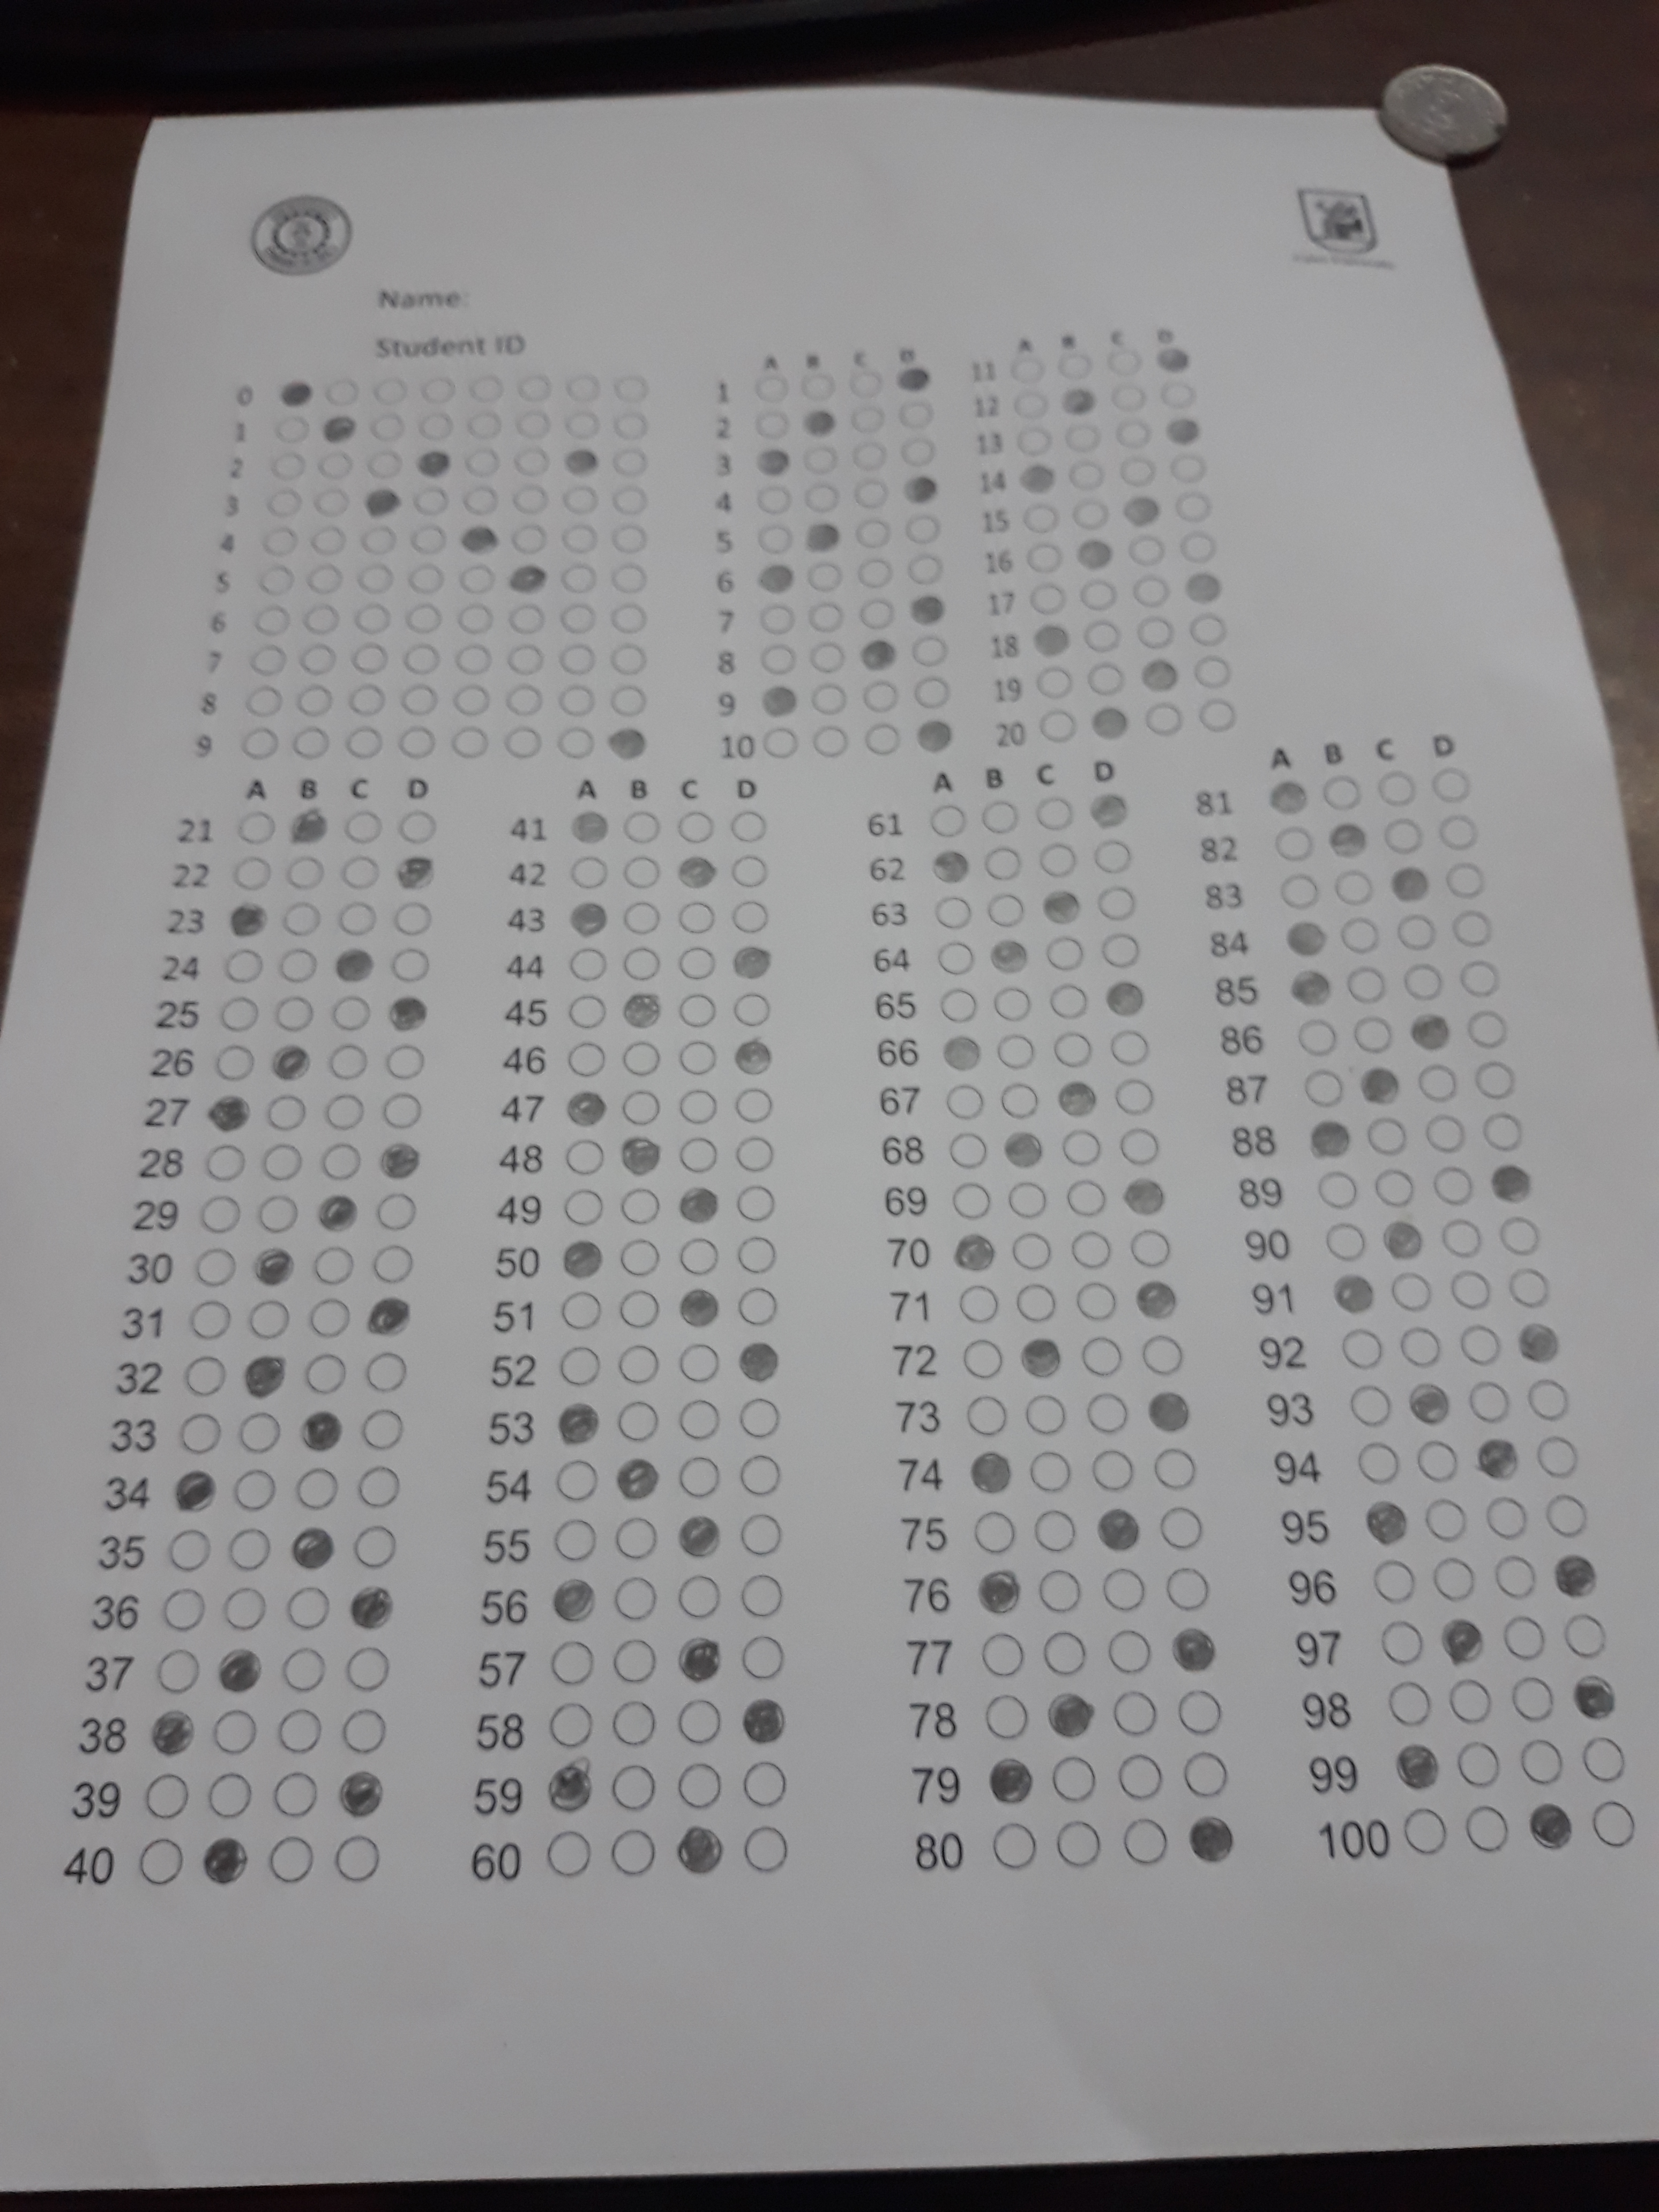not-c: (1054, 1818, 1103, 1869), (674, 1759, 723, 1810), (741, 1761, 789, 1811), (742, 1824, 791, 1874), (1047, 1754, 1096, 1804), (992, 1820, 1040, 1871), (1183, 1750, 1232, 1801), (1112, 1688, 1161, 1738), (985, 1691, 1033, 1742), (544, 1831, 592, 1881), (612, 1573, 660, 1623), (552, 1515, 601, 1566), (549, 1635, 598, 1686), (1462, 1804, 1511, 1855), (1457, 1740, 1506, 1791), (1518, 1737, 1567, 1787), (1589, 1799, 1638, 1850), (1579, 1735, 1628, 1785), (1511, 1674, 1560, 1724), (610, 1827, 659, 1878), (612, 1763, 660, 1813), (211, 1707, 260, 1757), (333, 1834, 382, 1885), (206, 1770, 254, 1820), (143, 1770, 192, 1820), (153, 1646, 202, 1696), (160, 1585, 209, 1635), (1560, 1609, 1608, 1658), (1122, 1817, 1171, 1865), (1175, 1688, 1223, 1737), (545, 1700, 594, 1749), (610, 1637, 659, 1686), (739, 1630, 788, 1679), (674, 1573, 723, 1622), (1401, 1806, 1450, 1855), (1446, 1676, 1495, 1724), (1385, 1679, 1434, 1728), (612, 1700, 660, 1749), (674, 1698, 723, 1747), (342, 1707, 390, 1756), (275, 1707, 324, 1756), (270, 1770, 319, 1818), (267, 1834, 315, 1883), (138, 1838, 186, 1886), (286, 1583, 335, 1632), (1117, 1754, 1164, 1804), (1500, 1613, 1547, 1662), (352, 1524, 401, 1571), (291, 1467, 340, 1514), (230, 1467, 279, 1514), (166, 1527, 214, 1575), (227, 1526, 275, 1573), (221, 1587, 270, 1634), (281, 1646, 329, 1693), (343, 1646, 392, 1693), (355, 1465, 403, 1510), (310, 1244, 357, 1289), (303, 1352, 350, 1397), (176, 1411, 223, 1456), (188, 1298, 235, 1343), (1033, 1508, 1079, 1554), (1378, 1620, 1424, 1665), (1373, 1559, 1419, 1604), (1432, 1557, 1478, 1602), (1424, 1496, 1469, 1541), (1485, 1496, 1530, 1541), (1544, 1493, 1589, 1538), (1349, 1383, 1394, 1428), (1340, 1325, 1385, 1371), (1399, 1324, 1445, 1369), (1389, 1271, 1434, 1317), (1467, 1378, 1513, 1423), (1459, 1322, 1504, 1367), (1527, 1376, 1572, 1421), (1507, 1266, 1553, 1312), (1497, 1214, 1542, 1259), (1439, 1216, 1485, 1261), (1432, 1162, 1478, 1207), (1371, 1167, 1417, 1212), (1040, 1632, 1086, 1677), (981, 1632, 1026, 1677), (971, 1508, 1016, 1554), (1089, 1447, 1134, 1493), (558, 1343, 603, 1388), (558, 1289, 603, 1334), (615, 1515, 660, 1561), (1166, 1566, 1211, 1611), (1154, 1446, 1199, 1491), (1086, 1390, 1131, 1435), (1023, 1392, 1068, 1437), (964, 1393, 1009, 1439), (1014, 1280, 1060, 1325), (1080, 1334, 1126, 1379), (615, 1397, 660, 1442), (615, 1341, 660, 1386), (617, 1237, 662, 1282), (619, 1184, 664, 1230), (619, 1035, 664, 1080), (676, 1237, 721, 1282), (676, 1132, 721, 1177), (676, 1083, 721, 1129), (674, 1035, 720, 1080), (674, 984, 720, 1029), (674, 1341, 720, 1386), (676, 1397, 721, 1442), (680, 1454, 725, 1500), (739, 1514, 784, 1559), (735, 1451, 781, 1496), (737, 1395, 782, 1440), (735, 1284, 781, 1329), (737, 1233, 782, 1278), (732, 1130, 777, 1176), (730, 1082, 775, 1127), (364, 1348, 410, 1393), (246, 1299, 291, 1345), (237, 1411, 282, 1456), (183, 1352, 228, 1397), (193, 1245, 239, 1291), (1159, 1507, 1204, 1550), (1140, 1332, 1185, 1376), (1075, 1278, 1119, 1324), (1493, 1554, 1539, 1597), (1535, 1435, 1581, 1479), (1358, 1440, 1401, 1486), (1419, 1437, 1462, 1482), (1448, 1270, 1493, 1313), (1108, 1629, 1152, 1674), (1028, 1449, 1073, 1493), (556, 1458, 601, 1501), (1101, 1569, 1147, 1613), (962, 1336, 1006, 1381), (958, 1282, 1004, 1325), (617, 1285, 660, 1331), (617, 1087, 662, 1130), (739, 1575, 784, 1618), (735, 1183, 779, 1228), (307, 1298, 352, 1341), (359, 1407, 404, 1451), (1039, 1569, 1082, 1613), (1321, 1219, 1363, 1263), (1316, 1169, 1358, 1212), (1068, 1228, 1110, 1271), (1065, 1176, 1107, 1219), (1119, 1123, 1161, 1167), (1108, 1026, 1150, 1069), (948, 1129, 990, 1172), (997, 1080, 1039, 1123), (993, 1031, 1035, 1075), (369, 1244, 415, 1284), (260, 1141, 305, 1181), (565, 1137, 610, 1177), (563, 1186, 608, 1226), (383, 1042, 429, 1082), (1129, 1228, 1171, 1270), (1011, 1230, 1053, 1271), (1007, 1179, 1049, 1221), (1061, 1127, 1103, 1169), (1112, 1075, 1154, 1116), (1051, 1029, 1093, 1071), (950, 1181, 992, 1223), (945, 1082, 986, 1123), (992, 984, 1033, 1026), (375, 1191, 418, 1231), (324, 1092, 368, 1132), (256, 1193, 300, 1233), (267, 1092, 310, 1132), (197, 1193, 240, 1233), (206, 1143, 249, 1183), (328, 1042, 371, 1082), (214, 1043, 258, 1083), (382, 1089, 425, 1129), (1049, 984, 1091, 1024), (674, 899, 716, 939), (938, 986, 979, 1026), (728, 897, 770, 937), (728, 853, 770, 894), (932, 894, 974, 934), (983, 845, 1025, 885), (985, 892, 1026, 932), (1101, 932, 1143, 972), (1039, 841, 1080, 881), (1096, 883, 1138, 923), (1093, 838, 1134, 878), (1368, 1116, 1410, 1157), (1425, 1113, 1467, 1153), (1483, 1111, 1525, 1151), (1474, 1059, 1516, 1099), (1302, 1068, 1344, 1108), (1352, 1014, 1394, 1054), (1459, 958, 1500, 998), (1297, 1017, 1338, 1057), (1450, 911, 1492, 951), (1345, 965, 1387, 1005), (1340, 914, 1382, 954), (1445, 860, 1486, 900), (1277, 873, 1319, 913), (1274, 824, 1316, 864), (1432, 765, 1474, 805), (1375, 768, 1417, 808), (1319, 772, 1361, 812), (979, 798, 1021, 838), (674, 806, 716, 846), (619, 806, 660, 846), (927, 801, 969, 841), (565, 1038, 608, 1076), (319, 1141, 362, 1179), (730, 991, 772, 1029), (936, 941, 978, 979), (1046, 935, 1087, 974), (1417, 1064, 1459, 1103), (1467, 1010, 1509, 1049), (1405, 963, 1446, 1001), (1396, 914, 1438, 953), (1333, 869, 1375, 907), (1436, 815, 1478, 853), (1384, 817, 1425, 855), (1033, 792, 1075, 831), (727, 808, 769, 846), (678, 944, 720, 982), (223, 946, 265, 984), (331, 993, 373, 1031), (218, 995, 260, 1033), (340, 853, 382, 892), (232, 853, 274, 892), (556, 683, 598, 719), (453, 641, 495, 678), (300, 601, 342, 637), (863, 723, 904, 759), (504, 681, 545, 718), (345, 683, 387, 719), (502, 725, 544, 761), (805, 557, 847, 594), (805, 599, 847, 636), (1133, 573, 1175, 610), (1187, 613, 1229, 650), (1143, 700, 1185, 737), (1037, 705, 1079, 742), (390, 948, 432, 984), (568, 946, 610, 982), (620, 946, 662, 982), (620, 899, 662, 935), (619, 855, 660, 892), (274, 995, 315, 1031), (568, 853, 610, 890), (275, 946, 317, 982), (282, 900, 324, 937), (284, 853, 326, 890), (397, 810, 439, 846), (342, 808, 383, 845), (235, 810, 277, 846), (394, 900, 436, 937), (336, 900, 378, 937), (568, 993, 610, 1029), (507, 601, 547, 637), (401, 641, 441, 678), (451, 681, 491, 718), (1030, 582, 1070, 618), (396, 725, 437, 759), (606, 685, 648, 719), (505, 641, 547, 676), (559, 601, 601, 636), (457, 601, 498, 636), (403, 601, 444, 636), (350, 641, 392, 676), (352, 599, 394, 634), (289, 725, 331, 759), (295, 683, 336, 718), (298, 643, 340, 678), (244, 683, 286, 718), (247, 643, 289, 678), (397, 683, 439, 718), (911, 676, 953, 711), (762, 725, 803, 759), (343, 723, 385, 758), (556, 725, 598, 759), (910, 634, 951, 669), (861, 678, 903, 712), (1173, 489, 1215, 524), (1025, 538, 1066, 573), (1176, 531, 1218, 566), (1126, 533, 1168, 568), (1080, 577, 1122, 611), (854, 556, 896, 590), (809, 681, 850, 716), (805, 641, 847, 676), (756, 641, 798, 676), (1080, 618, 1122, 653), (1035, 664, 1077, 698), (1134, 617, 1176, 651), (1192, 655, 1234, 690), (1197, 700, 1239, 735), (608, 643, 648, 678), (558, 641, 598, 676), (612, 601, 652, 636), (239, 726, 279, 761), (810, 723, 850, 758), (450, 725, 490, 759), (1072, 498, 1112, 533), (856, 596, 896, 631), (758, 603, 798, 637), (1087, 664, 1127, 698), (753, 408, 791, 442), (464, 408, 502, 442), (511, 484, 551, 517), (516, 408, 556, 441), (1007, 355, 1047, 388), (897, 397, 938, 430), (849, 402, 889, 435), (847, 368, 887, 401), (753, 373, 793, 406), (460, 482, 500, 516), (462, 446, 502, 479), (465, 371, 505, 404), (364, 446, 404, 479), (416, 409, 457, 442), (265, 488, 305, 521), (268, 449, 308, 482), (272, 413, 312, 446), (369, 409, 410, 442), (369, 374, 410, 408), (322, 374, 362, 408), (608, 561, 648, 594), (254, 603, 295, 636), (559, 564, 599, 597), (404, 561, 444, 594), (355, 561, 396, 594), (305, 563, 345, 596), (256, 563, 296, 596), (561, 521, 601, 554), (509, 521, 549, 554), (1021, 502, 1061, 535), (411, 523, 451, 556), (559, 482, 599, 516), (359, 524, 399, 557), (307, 524, 347, 557), (260, 526, 300, 559), (610, 444, 650, 477), (610, 409, 650, 442), (610, 371, 650, 404), (563, 408, 603, 441), (563, 371, 603, 404), (512, 444, 551, 477), (516, 373, 554, 406), (802, 368, 840, 401), (411, 484, 450, 517), (314, 486, 352, 519), (317, 446, 355, 479), (422, 371, 460, 404), (610, 521, 648, 554), (460, 563, 498, 596), (608, 484, 647, 517), (802, 444, 840, 477), (850, 441, 889, 474), (901, 434, 939, 467), (1169, 451, 1208, 484), (1119, 453, 1157, 486), (1070, 458, 1108, 491), (1112, 416, 1150, 449), (1065, 420, 1103, 453), (1014, 423, 1053, 456), (1108, 380, 1147, 413), (1012, 387, 1051, 420), (1105, 343, 1143, 376), (1056, 347, 1094, 380), (903, 512, 941, 545), (854, 517, 892, 550), (756, 523, 795, 556), (756, 484, 795, 517), (906, 554, 945, 585), (1159, 378, 1197, 409), (852, 477, 890, 509), (802, 482, 840, 514)
taken-c: (199, 1834, 253, 1886), (983, 1757, 1039, 1808), (673, 1825, 727, 1876), (1549, 1550, 1603, 1601), (1361, 1498, 1415, 1548), (1473, 1433, 1527, 1484), (1183, 1813, 1237, 1864), (1042, 1691, 1096, 1742), (974, 1568, 1028, 1618), (1091, 1501, 1145, 1552), (1391, 1742, 1445, 1792), (964, 1449, 1019, 1498), (1523, 1803, 1579, 1851), (1568, 1674, 1624, 1723), (1434, 1616, 1490, 1665), (1166, 1625, 1220, 1674), (547, 1576, 599, 1625), (737, 1698, 789, 1747), (544, 1764, 596, 1813), (674, 1635, 727, 1684), (552, 1400, 605, 1449), (335, 1770, 387, 1818), (148, 1709, 200, 1757), (213, 1646, 265, 1695), (169, 1467, 221, 1515), (295, 1407, 347, 1456), (674, 1512, 725, 1561), (612, 1456, 662, 1505), (347, 1583, 397, 1632), (286, 1524, 336, 1573), (1403, 1381, 1453, 1425), (1513, 1322, 1563, 1366), (1406, 1008, 1457, 1052), (1018, 1336, 1066, 1379), (1133, 1278, 1182, 1322), (950, 1231, 999, 1275), (1000, 1127, 1049, 1170), (1054, 1078, 1103, 1122), (1378, 1219, 1427, 1263), (1486, 1160, 1535, 1204), (1305, 1116, 1354, 1160), (1356, 1064, 1405, 1108), (735, 1341, 784, 1385), (674, 1183, 723, 1226), (1145, 1392, 1195, 1433), (1119, 1176, 1169, 1217), (240, 1353, 288, 1397), (251, 1245, 298, 1289), (207, 1092, 254, 1136), (268, 1040, 315, 1083), (617, 1134, 664, 1177), (565, 1087, 612, 1130), (938, 1033, 986, 1075), (1330, 1273, 1378, 1315), (1286, 968, 1335, 1010), (364, 1294, 413, 1336), (314, 1193, 361, 1235), (376, 1139, 423, 1181), (676, 1287, 723, 1329), (559, 1238, 606, 1280), (383, 991, 430, 1033), (1105, 979, 1150, 1019), (1086, 791, 1131, 831), (1040, 888, 1084, 928), (1267, 777, 1310, 817), (674, 852, 718, 892), (986, 937, 1032, 975), (1288, 918, 1333, 956), (1387, 866, 1432, 904), (730, 1040, 775, 1078), (728, 942, 774, 981), (566, 900, 612, 939), (566, 810, 612, 848), (333, 946, 378, 984), (929, 848, 972, 887), (1326, 820, 1370, 859), (620, 991, 664, 1029), (227, 900, 270, 939), (394, 852, 437, 890), (288, 808, 331, 846), (606, 726, 648, 759), (1089, 705, 1131, 738), (1032, 624, 1073, 657), (1075, 538, 1117, 571), (1124, 493, 1166, 526), (1164, 415, 1206, 448), (1060, 385, 1101, 418), (1152, 343, 1194, 376), (756, 561, 798, 594), (903, 474, 945, 507), (753, 446, 795, 479), (894, 362, 936, 395), (458, 523, 500, 556), (413, 446, 455, 479), (362, 486, 404, 519), (319, 413, 361, 446), (1141, 658, 1182, 691), (805, 519, 845, 552), (507, 561, 547, 594), (1183, 573, 1225, 604), (1018, 463, 1060, 495), (762, 685, 803, 716), (913, 719, 955, 751), (908, 594, 950, 625), (274, 378, 314, 409), (800, 406, 840, 437), (561, 446, 601, 477), (857, 639, 897, 671)
